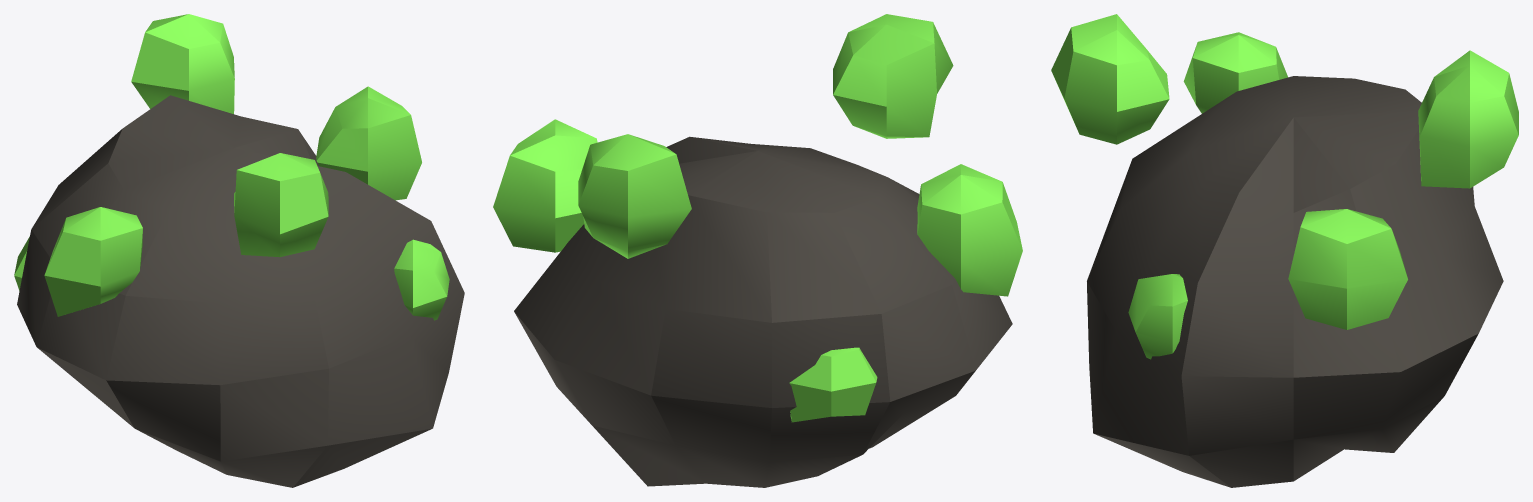
File: item_isotop.obj
3 views of the same model, side by side, from view 1: azimuth 30°, elevation 25°; view 2: azimuth 150°, elevation 25°; view 3: azimuth 270°, elevation 25° (orthographic). The views are drawn at different scales.
Visible parts, largest first — view 1: item_isotop_Koerper; view 2: item_isotop_Koerper; view 3: item_isotop_Koerper.
Part boxes in pixels (x1,y1,x2,y2): item_isotop_Koerper: [14, 14, 464, 487]; item_isotop_Koerper: [493, 14, 1022, 487]; item_isotop_Koerper: [1051, 14, 1518, 487].
Bounding box in the file's own units: 0.378 × 0.3131 × 0.3364.
